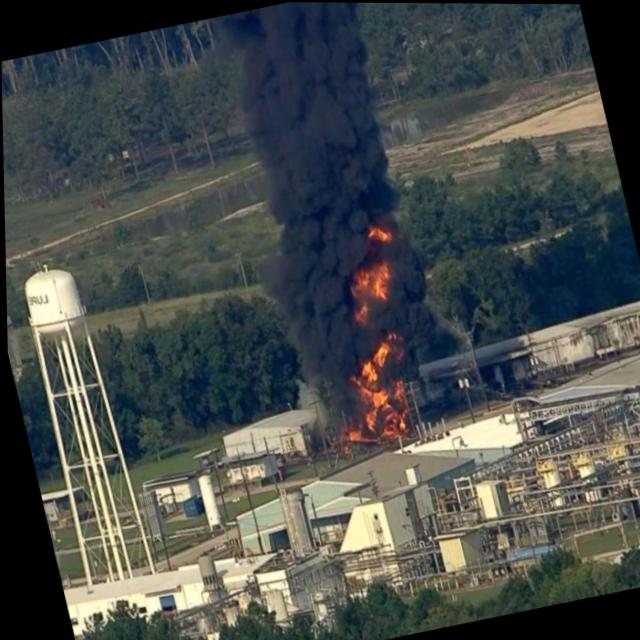fire: (294, 220, 439, 456)
